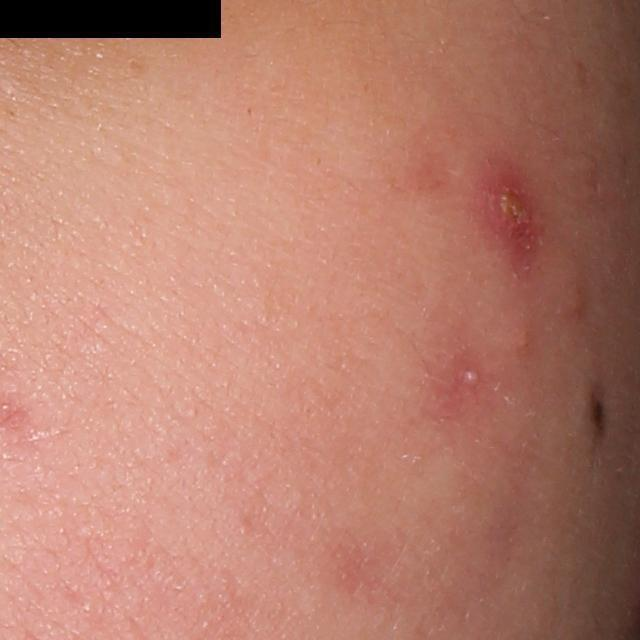nevus: (588, 386, 610, 438)
papule: (485, 170, 532, 240)
